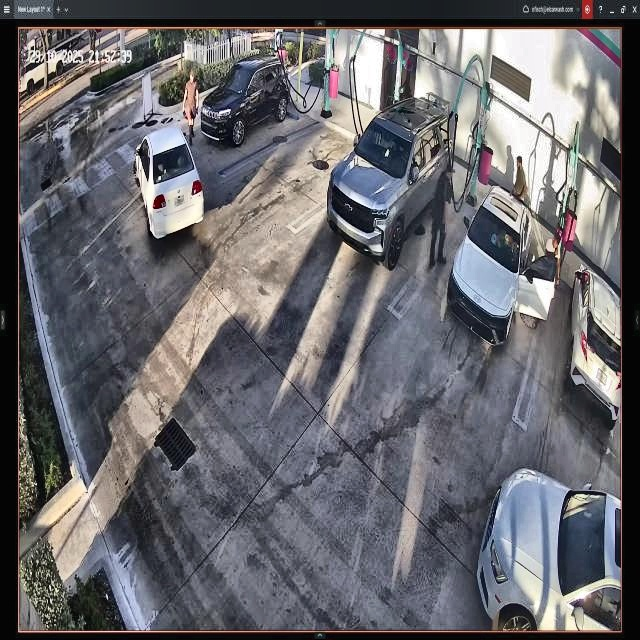Car: (326, 98, 454, 268), (452, 182, 556, 345), (138, 124, 205, 237)
